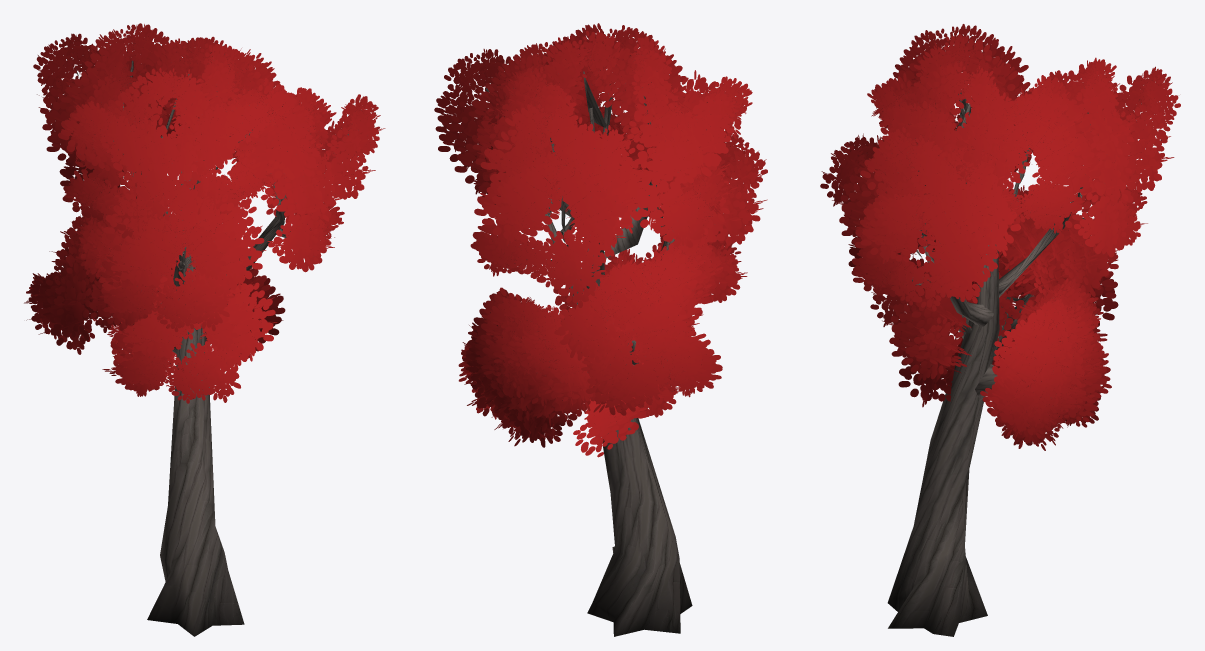
File: TwistedTree_5@lod.gltf
The picture shows the model from 3 angles, left to right: view 1: azimuth 30°, elevation 25°; view 2: azimuth 150°, elevation 25°; view 3: azimuth 270°, elevation 25°; orthographic projection. The views are drawn at different scales.
Parts seen in each view (by area): view 1: TwistedTree_5; view 2: TwistedTree_5; view 3: TwistedTree_5.
Part boxes in pixels (bbox=[...]): TwistedTree_5: bbox=[24, 23, 385, 636]; TwistedTree_5: bbox=[434, 23, 767, 636]; TwistedTree_5: bbox=[820, 24, 1180, 636].
Size of the model in its own units: 9.5 by 15.66 by 9.39.
2 materials, 2 textured.
